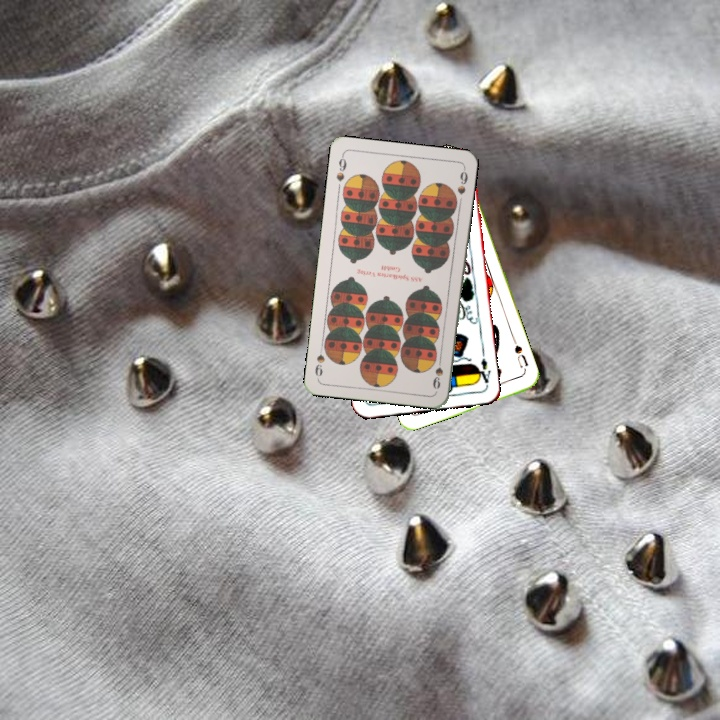EA: (472, 354, 493, 389)
S9: (428, 352, 446, 392), (332, 151, 349, 184)
SU: (510, 341, 531, 376)
